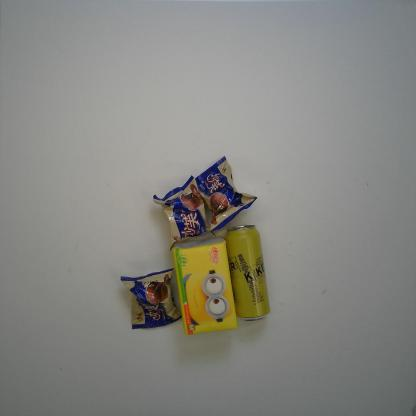Alcohol: (225, 224, 271, 322)
Dessert: (195, 156, 258, 233), (152, 174, 211, 252), (119, 266, 183, 330)
Tissue: (171, 235, 238, 336)
